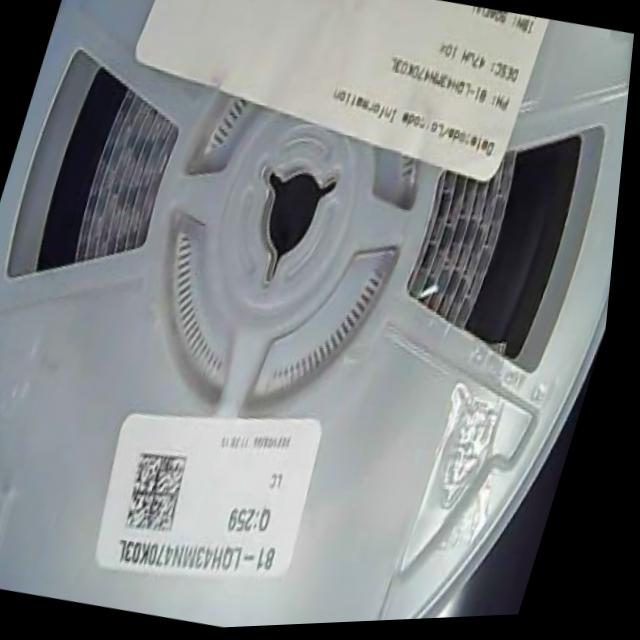datamatrix: (123, 444, 205, 542)
